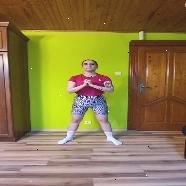squats: (54, 58, 126, 147)
